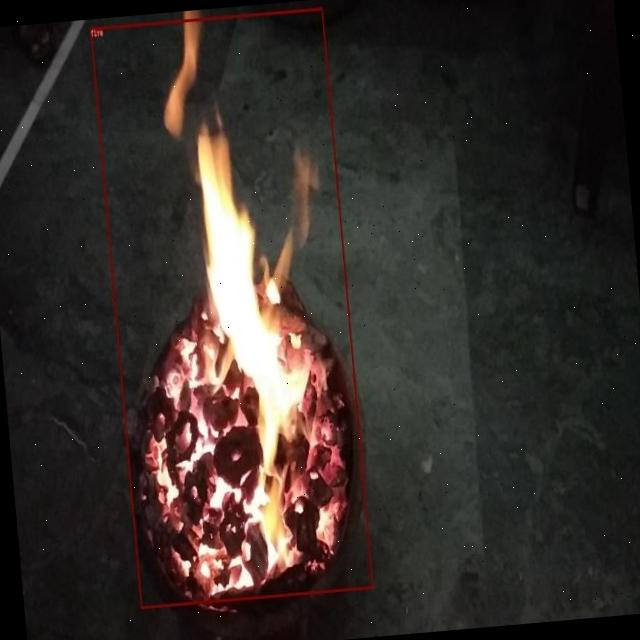fire: (90, 6, 372, 608)
